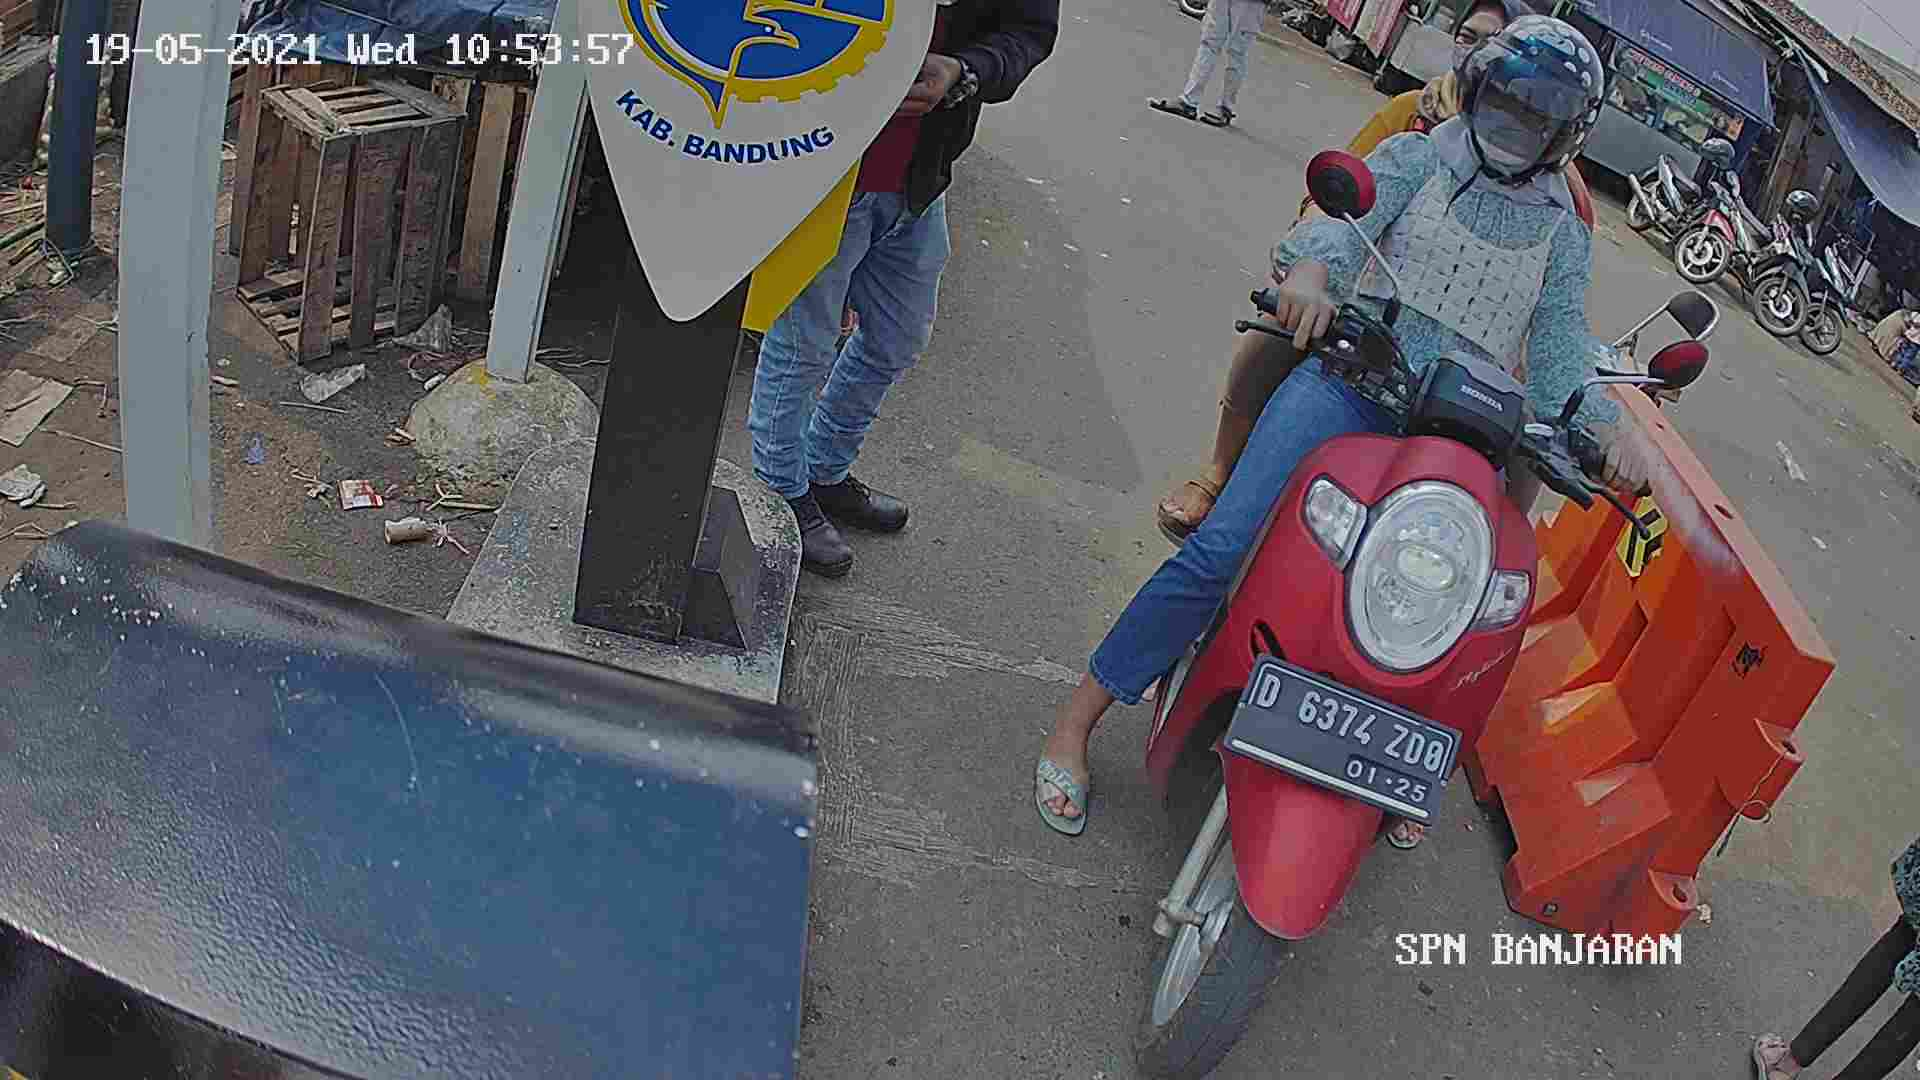motor: (1183, 256, 1494, 1080)
